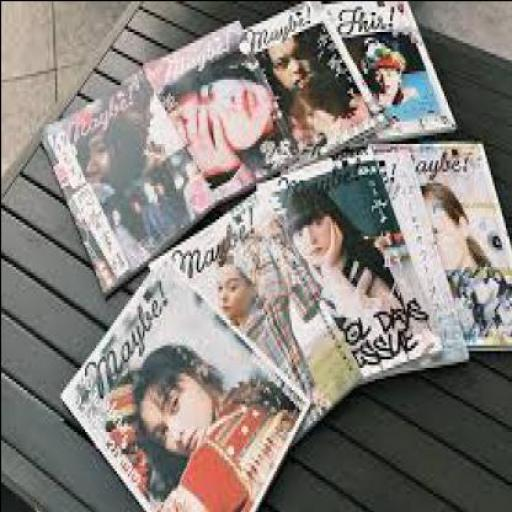paper: (57, 254, 307, 510), (145, 182, 356, 453), (257, 156, 437, 380), (37, 76, 210, 291), (363, 140, 510, 344), (330, 140, 465, 358), (140, 14, 296, 201), (239, 1, 385, 174), (321, 1, 453, 132)
